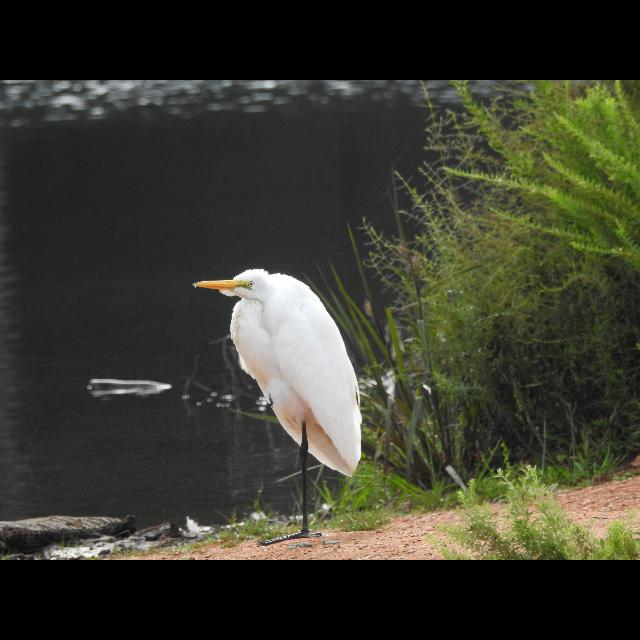egret: (188, 262, 378, 548)
